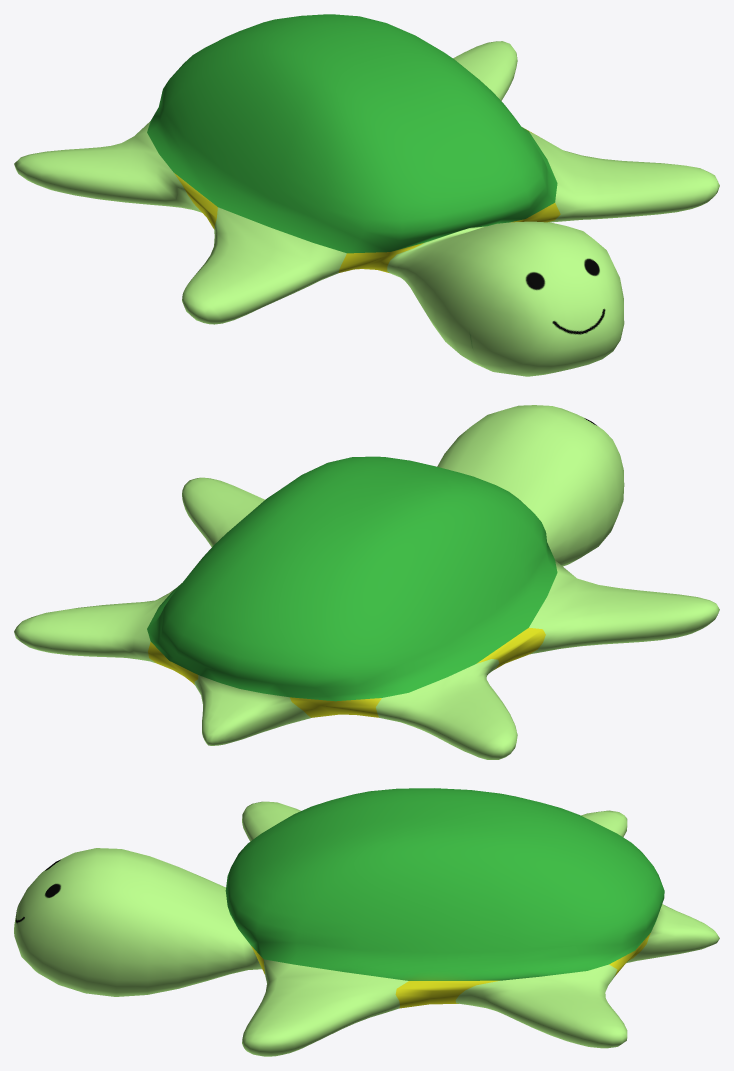
The model's file is ToyTurtle.fbx.
3 renders of one model, top to bottom at view 1: azimuth 30°, elevation 25°; view 2: azimuth 150°, elevation 25°; view 3: azimuth 270°, elevation 25°, orthographic. The views are drawn at different scales.
Visible parts, largest first — view 1: ToyTurtle; view 2: ToyTurtle; view 3: ToyTurtle.
Boxes of the visible parts, box(x1,y1,x2,y2) form: ToyTurtle: box(14, 14, 719, 376); ToyTurtle: box(14, 405, 719, 759); ToyTurtle: box(14, 788, 719, 1056).
Size of the model in its own units: 350 by 115 by 433.
1 material, 1 textured.
